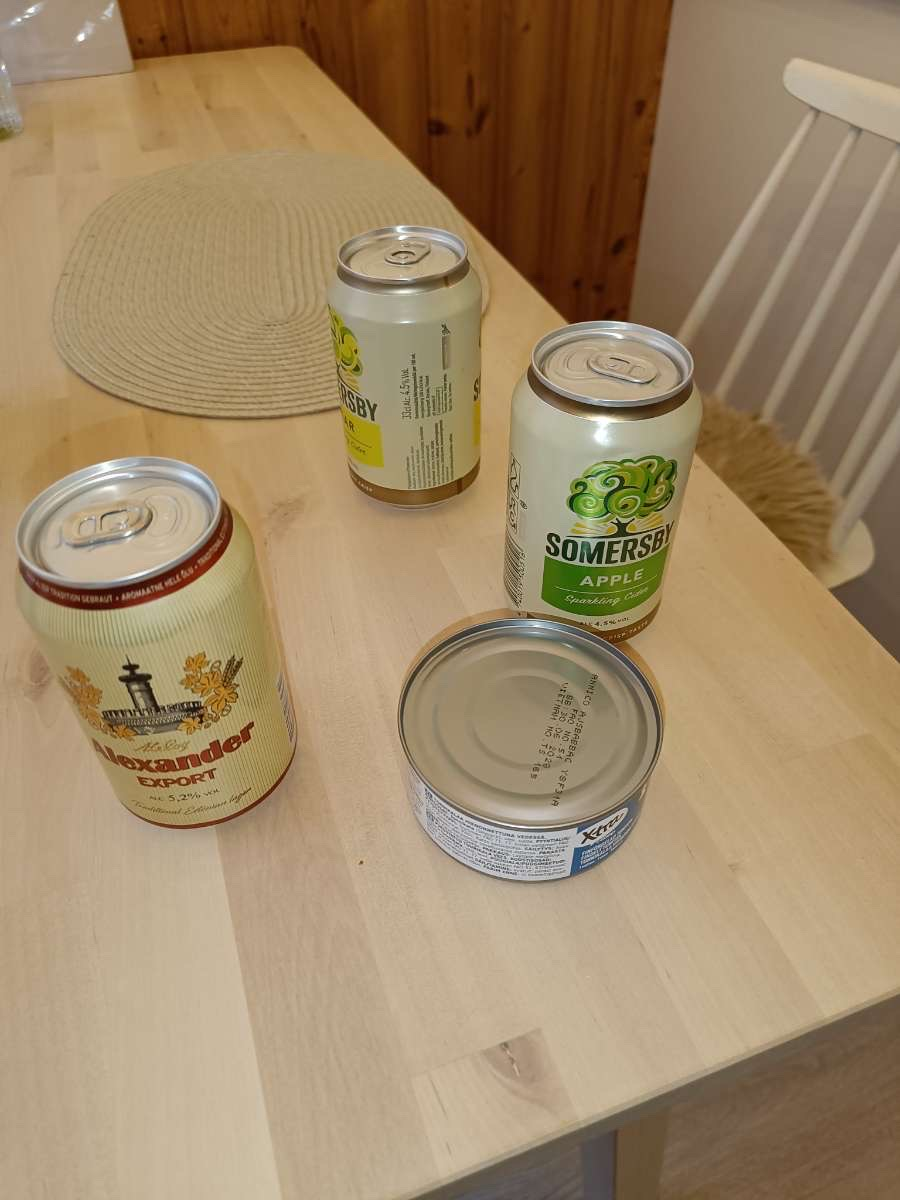Konservburk: (389, 612, 669, 890)
Pantburk: (5, 458, 300, 846), (499, 313, 702, 644), (310, 218, 499, 510)
